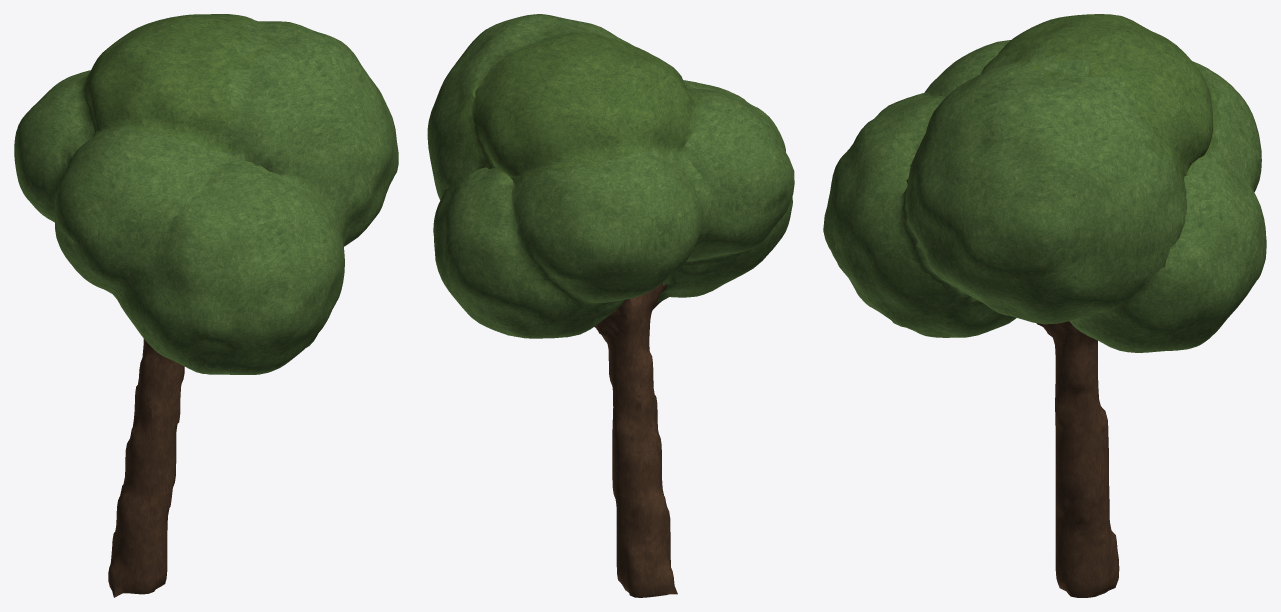
File: tree_oak_b.glb
The picture shows the model from 3 angles, left to right: view 1: azimuth 30°, elevation 25°; view 2: azimuth 150°, elevation 25°; view 3: azimuth 270°, elevation 25°; orthographic projection. The views are drawn at different scales.
Parts seen in each view (by area): view 1: wilds_tree_oak_b; view 2: wilds_tree_oak_b; view 3: wilds_tree_oak_b.
Boxes of the visible parts, x1,y1,x2,y2 form: wilds_tree_oak_b: (14, 14, 398, 597); wilds_tree_oak_b: (427, 14, 794, 597); wilds_tree_oak_b: (823, 14, 1266, 597).
Bounding box in the file's own units: 3.33 × 5.2 × 3.54.
Materials: 1 (1 with a texture image).
